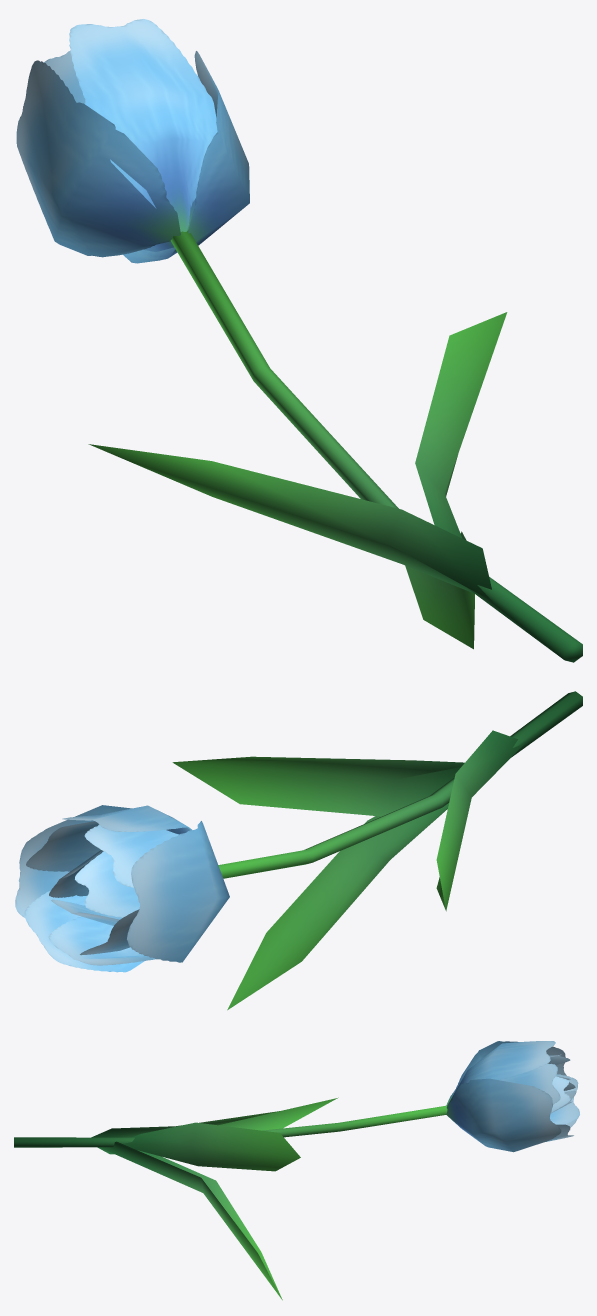
File: SM_Tulip_PastellBlue_Open.fbx
3 views of the same model, one above another, from view 1: azimuth 30°, elevation 25°; view 2: azimuth 150°, elevation 25°; view 3: azimuth 270°, elevation 25° (orthographic). The views are drawn at different scales.
Parts seen in each view (by area): view 1: Tulip_PastellBlue_Open; view 2: Tulip_PastellBlue_Open; view 3: Tulip_PastellBlue_Open.
Boxes of the visible parts, <box> form: Tulip_PastellBlue_Open: <box>16,19,582,662</box>; Tulip_PastellBlue_Open: <box>15,691,582,1010</box>; Tulip_PastellBlue_Open: <box>14,1041,579,1300</box>.
Size of the model in its own units: 79.43 by 90.75 by 205.
